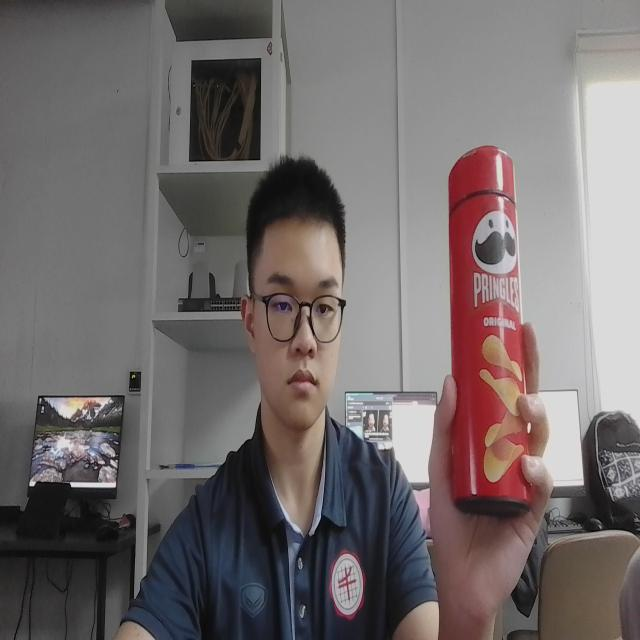water bottle: (440, 139, 534, 523)
